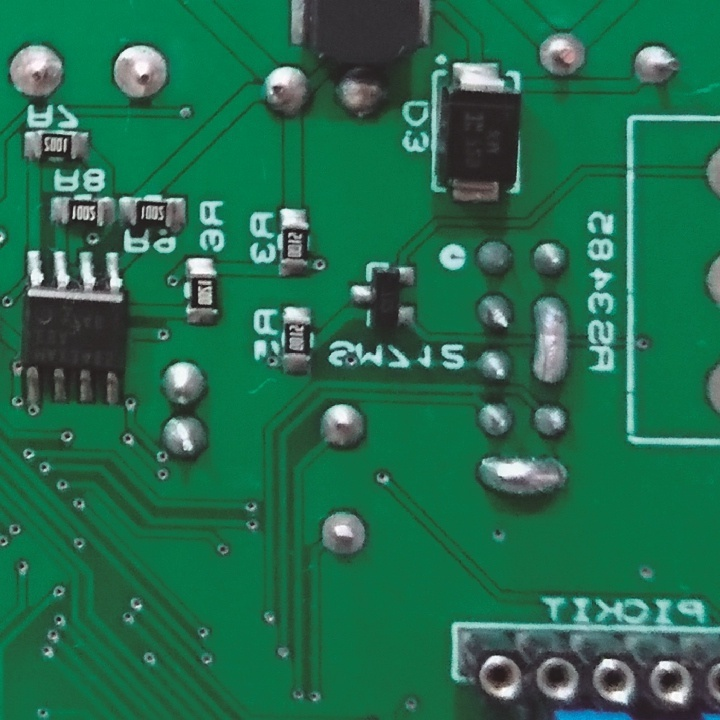F: (4, 39, 69, 103), (109, 40, 170, 104), (537, 29, 592, 83), (319, 507, 370, 563), (633, 43, 683, 90)
P: (476, 450, 572, 499), (530, 294, 572, 392)
